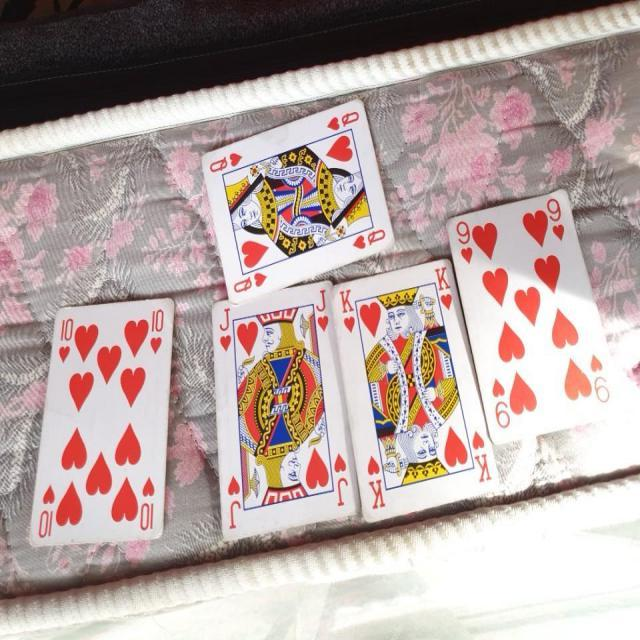10 of diamonds: (28, 302, 176, 546)
9 of hearts: (446, 183, 609, 452)
jack of hearts: (208, 277, 363, 543)
king of hearts: (328, 256, 501, 524)
queen of hearts: (200, 87, 398, 308)
